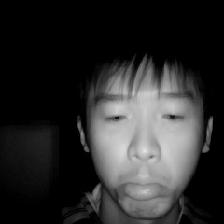sad: (74, 37, 216, 220)
